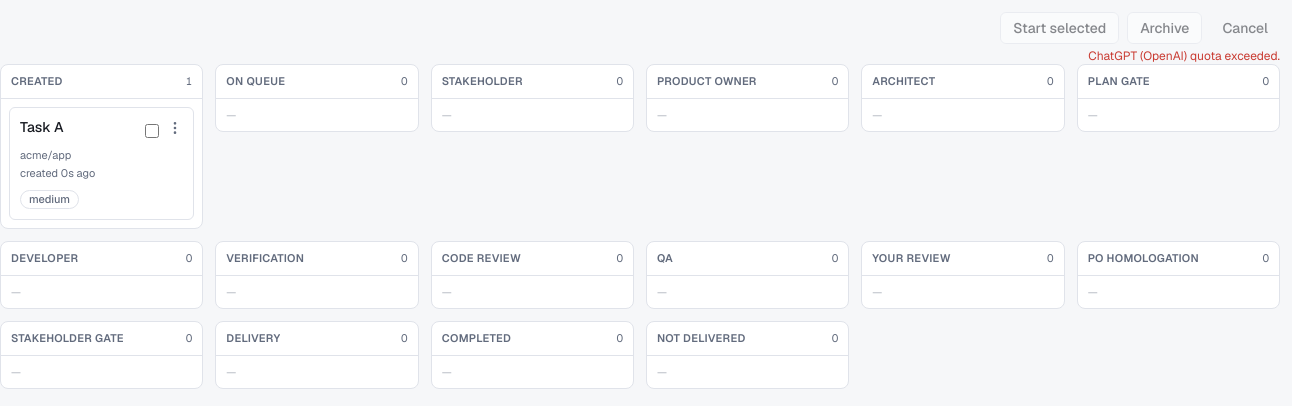
BatchStartButton quota warning (S4 — beside every Start affordance) › shows an exceeded note beside the button without disabling it
Check: the text "ChatGPT (OpenAI) quota exceeded." is shown, box [1088,48,1280,64]
Click the checkbox named "Task A".
click(152, 130)  # box [145,124,159,138]
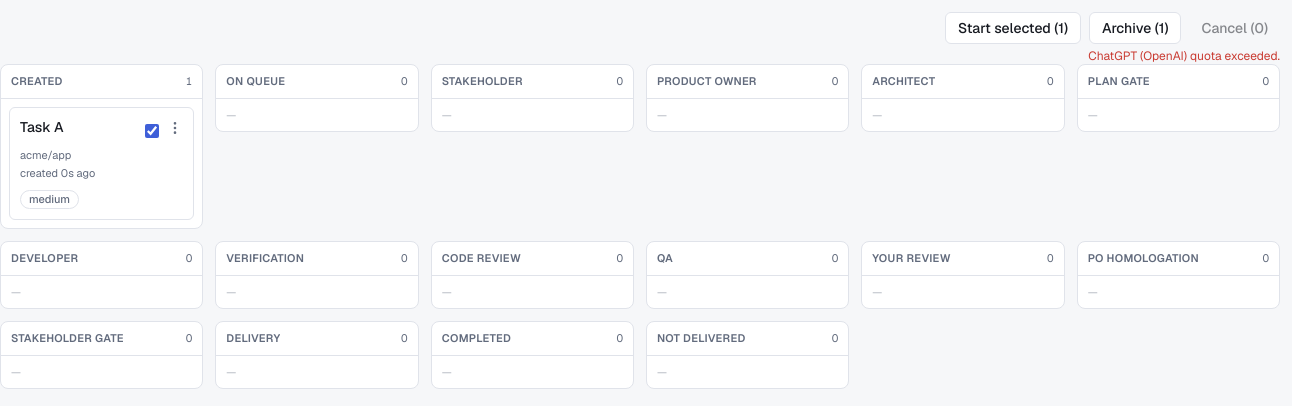
Check: the button "Start selected (1)" is enabled, box [945,12,1081,44]
